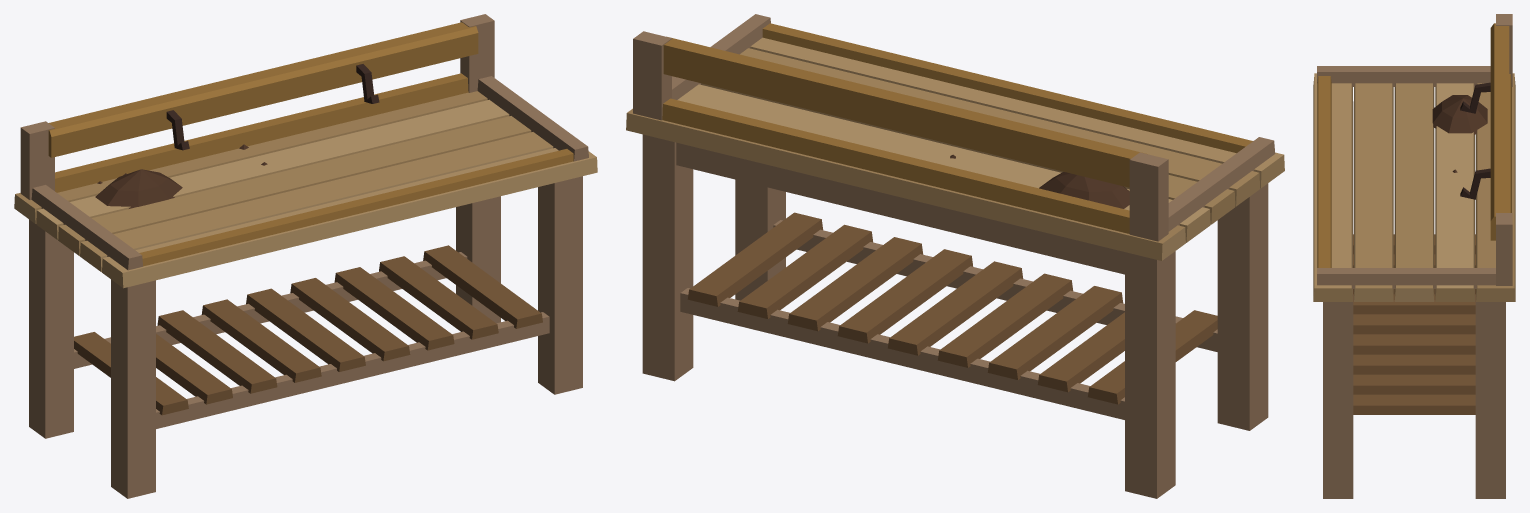
File: potting-bench-3a85ec.glb
3 renders of one model, left to right at view 1: azimuth 30°, elevation 25°; view 2: azimuth 150°, elevation 25°; view 3: azimuth 270°, elevation 25°, orthographic. The views are drawn at different scales.
Parts seen in each view (by area): view 1: bench; view 2: bench; view 3: bench.
Part boxes in pixels (left/top/right/bottom): bench: left=14, top=14, right=597, bottom=498; bench: left=626, top=14, right=1284, bottom=498; bench: left=1313, top=14, right=1515, bottom=498.
Size of the model in its own units: 1.5 by 0.9 by 0.597.
